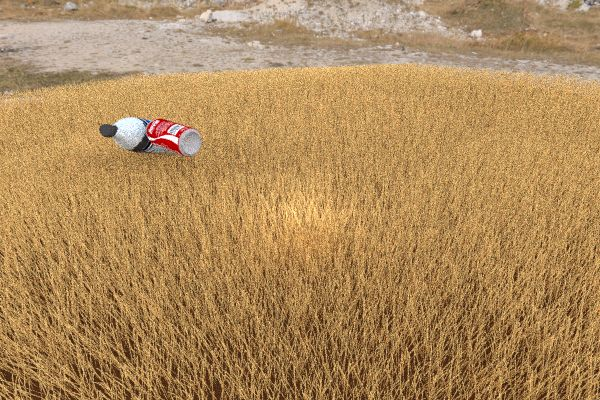bottle: (99, 117, 188, 154)
can: (145, 118, 201, 156)
